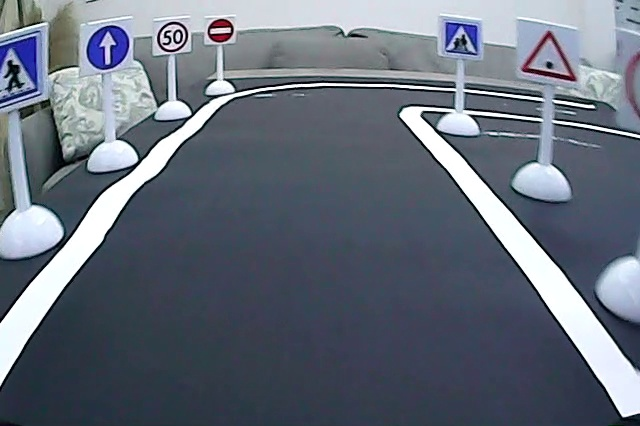do not enter: (205, 16, 236, 46)
green light: (518, 25, 580, 88)
pedestrian crossing: (1, 30, 45, 111)
school crossing: (443, 18, 481, 60)
speed limit 50: (156, 20, 189, 54)
